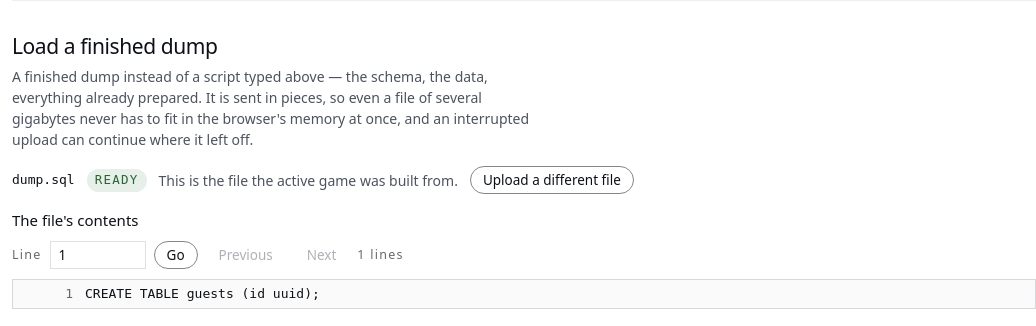
Test: the game upload panel › offers a way back to the picker so a different file can replace this one
This screenshot has width=1036, height=326.
Expected: the field labelled "Choose file" is not shown
Click the button "Upload a different file": (552, 180) [470,166,634,194]
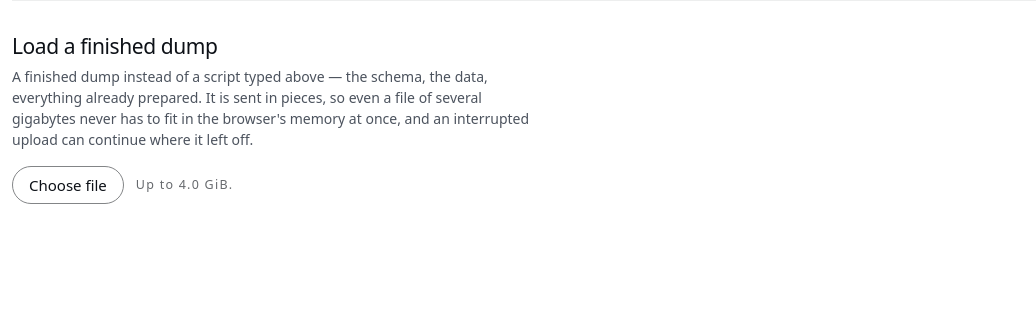
Result: the file field labelled "Choose file" is shown at [12,166,124,204]
Result: the text "dump.sql" is gone
